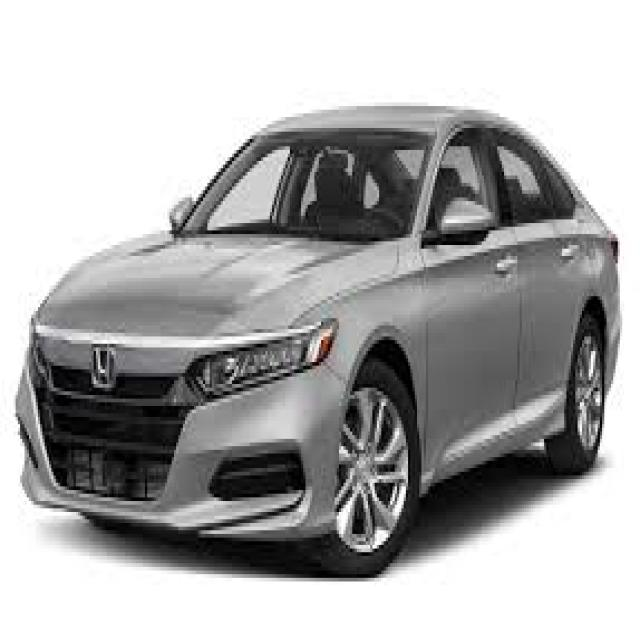Car: (12, 18, 624, 595)
